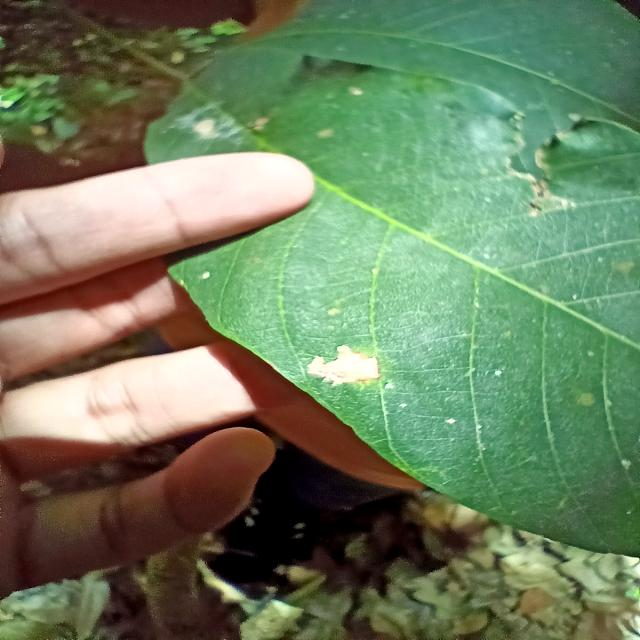Leaf-Blight: (306, 345, 380, 386)
